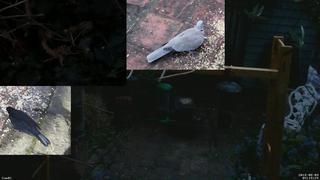blackbird: (6, 106, 51, 147)
collared dove: (146, 20, 205, 63)
